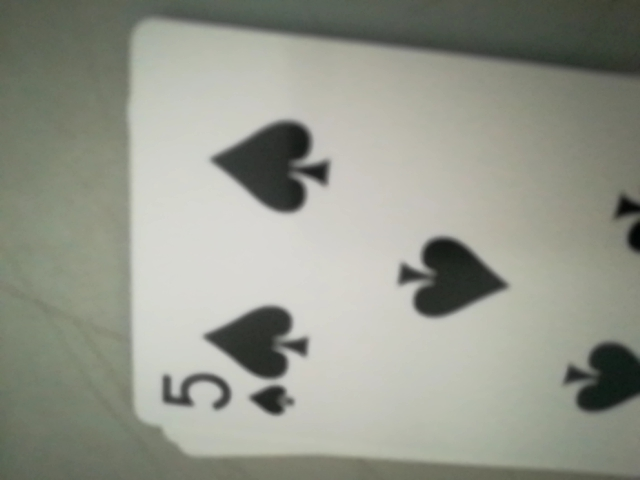ht 5: (145, 366, 304, 434)
